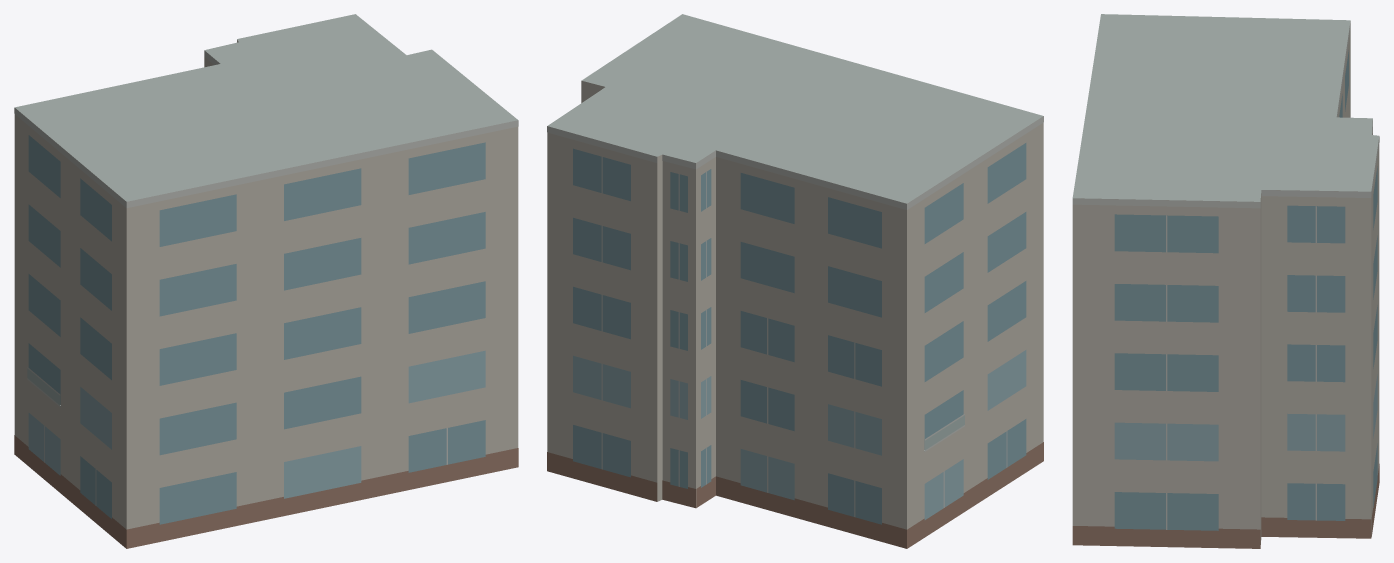
File: survey-upis-32850362.glb
3 views of the same model, side by side, from view 1: azimuth 30°, elevation 25°; view 2: azimuth 150°, elevation 25°; view 3: azimuth 270°, elevation 25° (orthographic).
Parts seen in each view (by area): view 1: survey-upis-32850362.tmp; view 2: survey-upis-32850362.tmp; view 3: survey-upis-32850362.tmp.
Boxes of the visible parts, x1=… form: survey-upis-32850362.tmp: x1=14, y1=14, x2=518, y2=548; survey-upis-32850362.tmp: x1=547, y1=14, x2=1043, y2=548; survey-upis-32850362.tmp: x1=1072, y1=14, x2=1379, y2=548.
Size of the model in its own units: 15.34 by 13.2 by 10.59.
